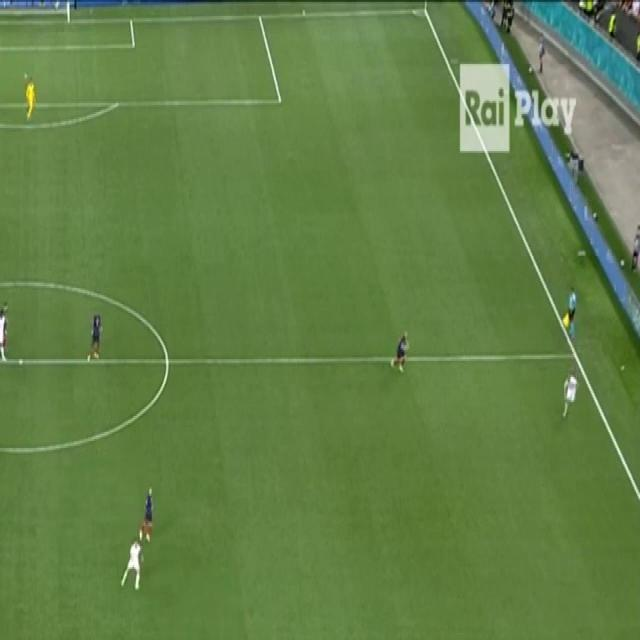Keeper: (562, 284, 578, 340)
another-player: (138, 486, 154, 544), (86, 312, 104, 362), (390, 331, 410, 375), (2, 300, 9, 350)
ball: (620, 257, 626, 267), (528, 64, 532, 74)
player-white: (120, 538, 144, 592), (562, 366, 579, 424), (0, 310, 7, 364)
referee: (25, 76, 39, 123)
